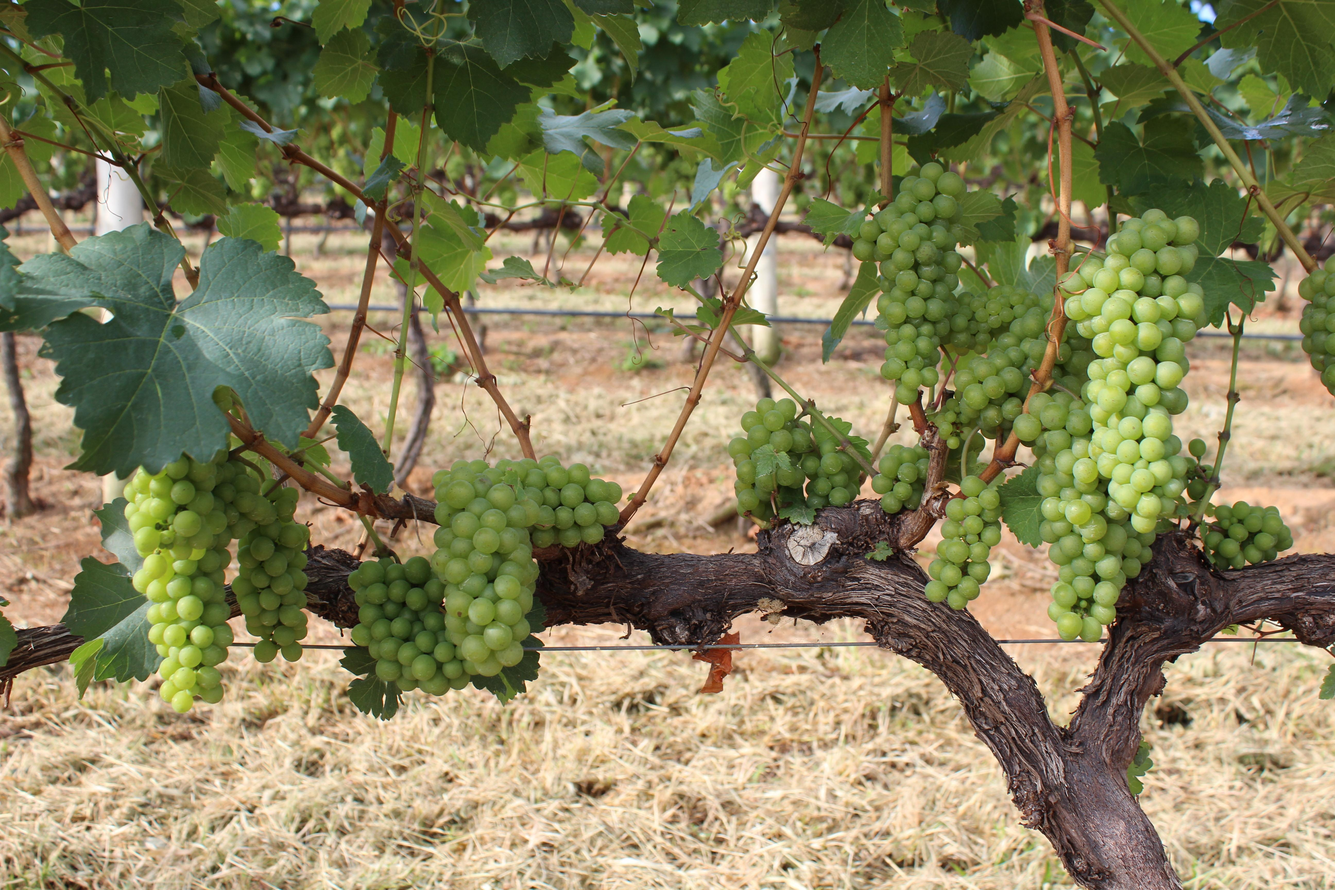leaf: (21, 223, 333, 475), (24, 0, 190, 102), (1215, 0, 1335, 98), (432, 45, 531, 151), (1095, 117, 1203, 194), (821, 0, 903, 89), (468, 0, 574, 67), (718, 31, 793, 124), (1185, 255, 1277, 327), (538, 108, 637, 174), (159, 79, 228, 170), (822, 262, 879, 362), (331, 405, 394, 493), (890, 31, 974, 96), (1121, 0, 1202, 62), (311, 28, 377, 104), (656, 211, 722, 286), (472, 635, 544, 703), (603, 194, 666, 256), (154, 164, 227, 215), (997, 467, 1043, 547), (937, 0, 1023, 41), (594, 14, 643, 82), (217, 203, 282, 251), (804, 198, 866, 245), (311, 0, 370, 45), (347, 673, 402, 720), (677, 0, 774, 25), (362, 153, 405, 201), (1126, 739, 1153, 795), (0, 614, 18, 666), (778, 503, 816, 525), (1319, 665, 1335, 700), (1126, 41, 1150, 63), (868, 197, 880, 205), (530, 621, 541, 628), (545, 41, 550, 48), (534, 603, 538, 610), (529, 612, 533, 617), (703, 161, 708, 162), (562, 6, 563, 9), (1142, 0, 1143, 2), (419, 106, 420, 108), (1179, 50, 1180, 51), (832, 4, 832, 5)
